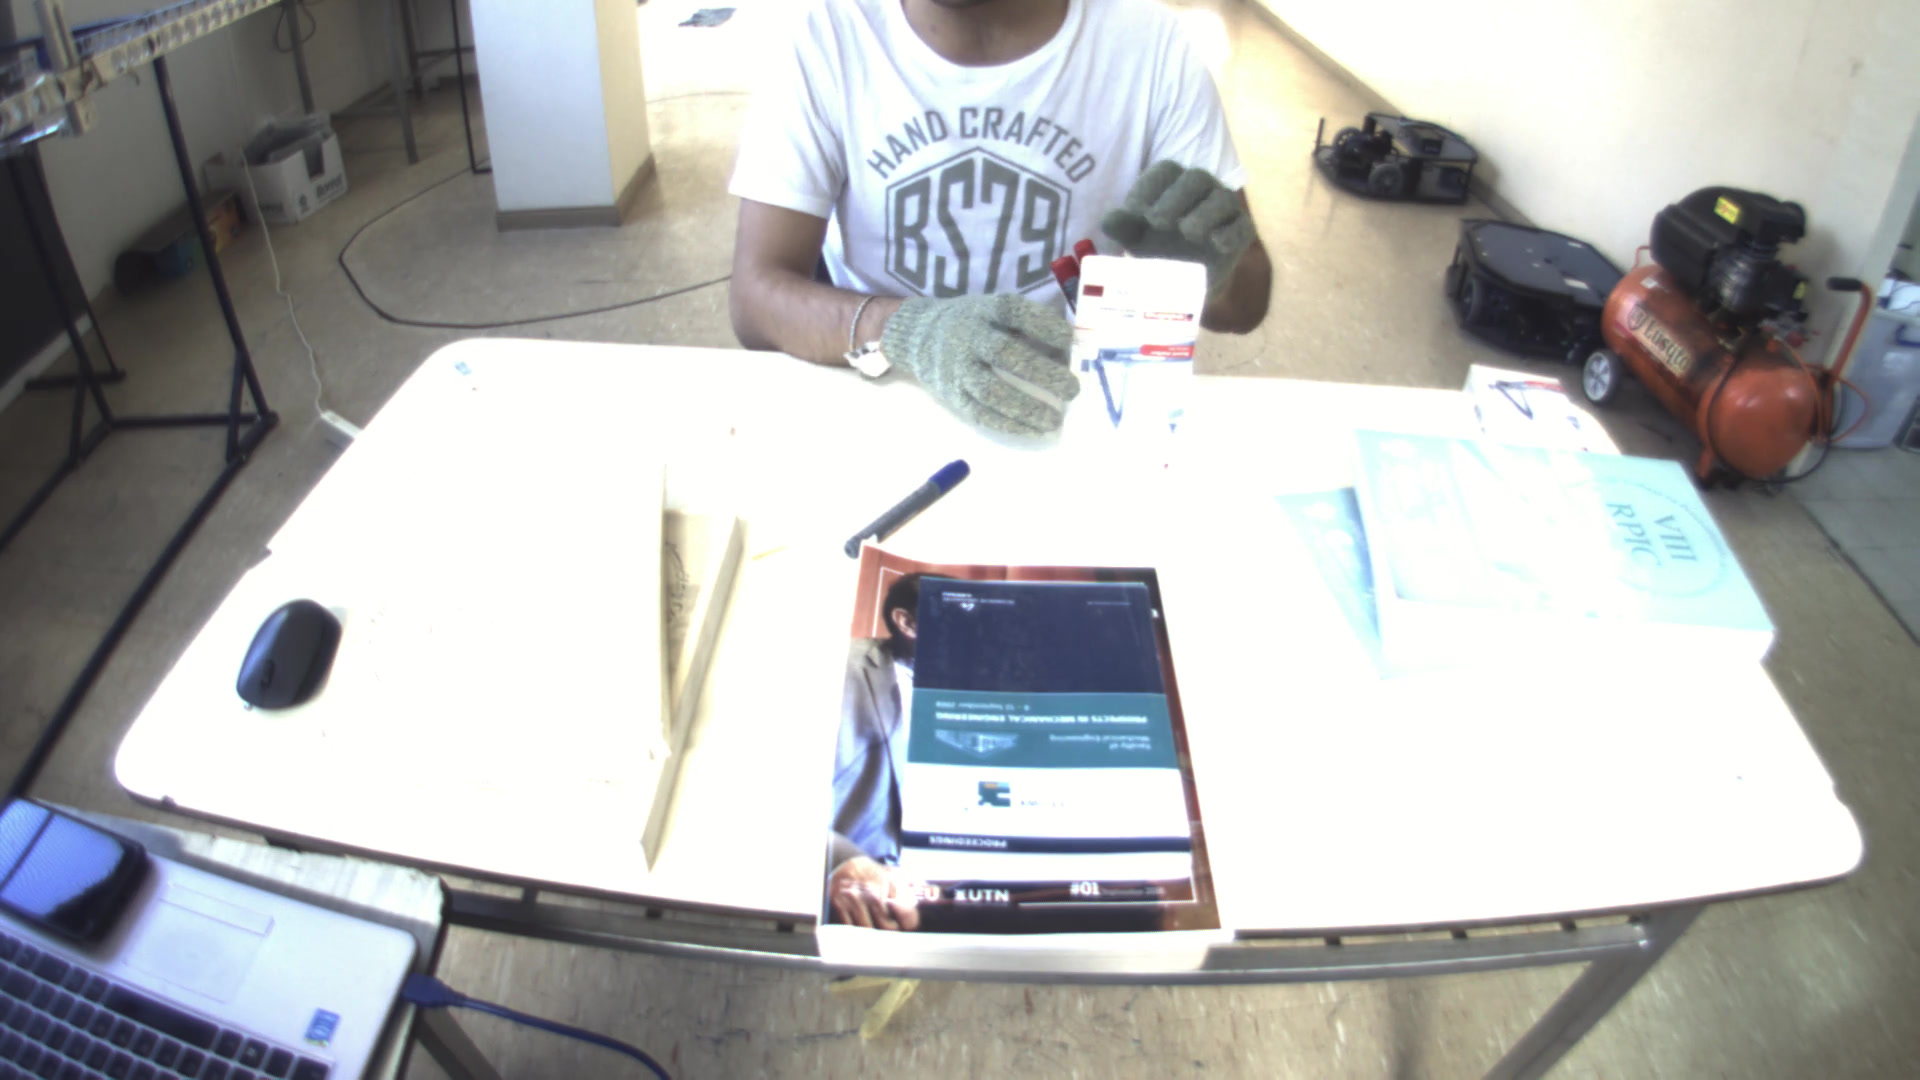hand: (858, 272, 1091, 440), (1101, 156, 1253, 322)
